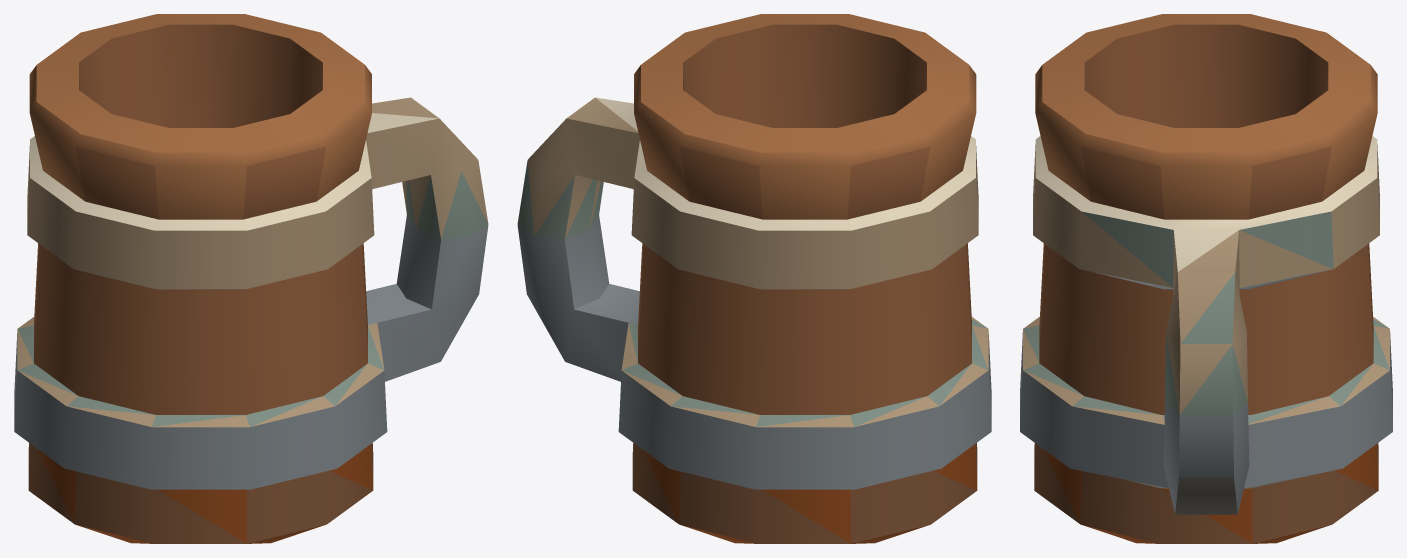
The model's file is itch_kaykit_adventurers_mug_empty.glb.
3 renders of one model, left to right at view 1: azimuth 30°, elevation 25°; view 2: azimuth 150°, elevation 25°; view 3: azimuth 270°, elevation 25°, orthographic.
Visible parts, largest first — view 1: mug_empty; view 2: mug_empty; view 3: mug_empty.
Part boxes in pixels (x1,y1,x2,y2): mug_empty: (14,14,488,543); mug_empty: (517,14,991,543); mug_empty: (1020,14,1392,543).
Bounding box in the file's own units: 0.42 × 0.3827 × 0.3113.
